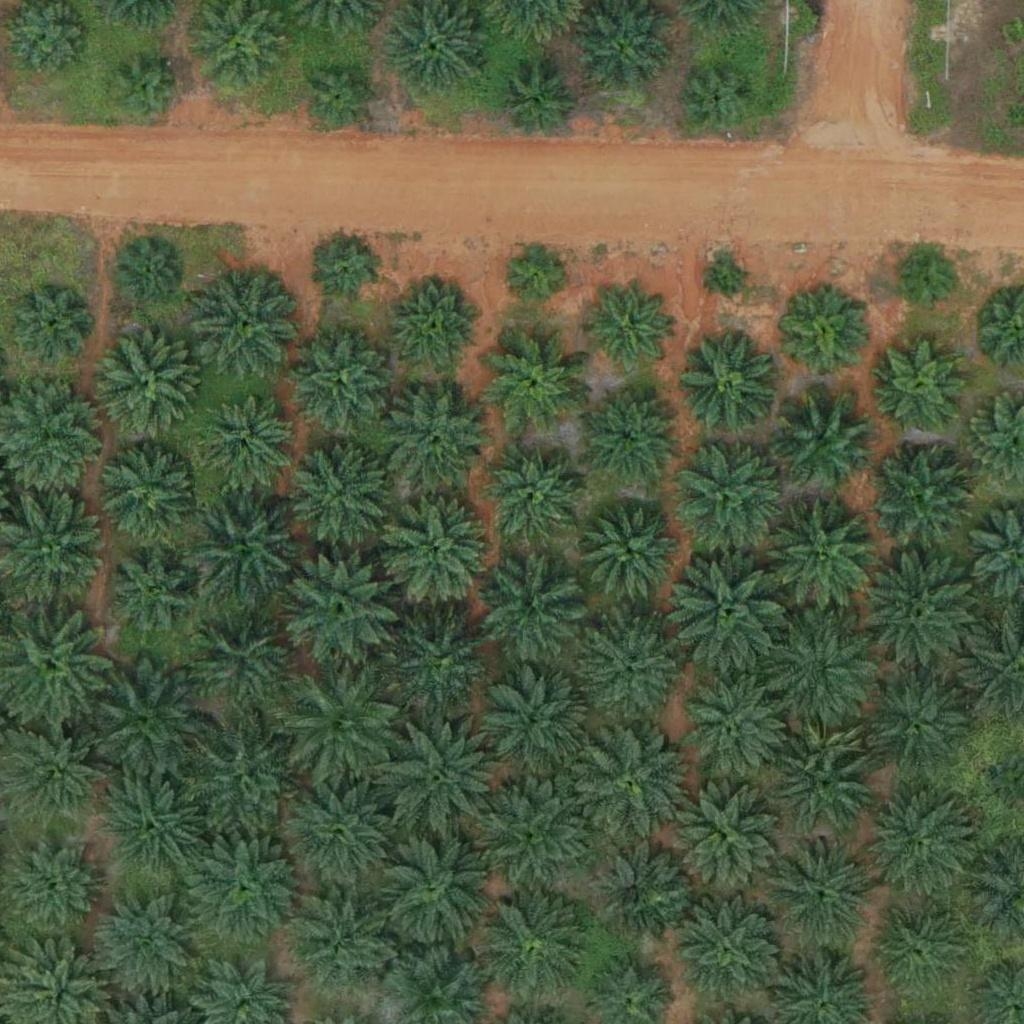Kelapa_Sawit: (84, 659, 209, 785), (180, 479, 305, 605), (179, 598, 304, 724), (179, 714, 304, 840), (280, 548, 405, 674), (278, 666, 403, 792), (375, 714, 500, 840), (663, 552, 788, 678), (756, 609, 881, 735), (852, 551, 977, 677), (371, 828, 496, 954), (278, 768, 403, 894), (181, 825, 306, 951), (376, 491, 501, 616), (566, 722, 691, 847), (473, 771, 598, 896), (473, 884, 598, 1009), (766, 500, 879, 614), (866, 441, 979, 555), (858, 668, 971, 781), (863, 785, 976, 898), (672, 435, 784, 548), (675, 671, 787, 784), (765, 720, 877, 833), (862, 899, 974, 1012), (767, 833, 879, 946), (97, 331, 197, 432), (96, 446, 196, 547), (199, 272, 299, 373), (193, 393, 293, 494), (290, 329, 390, 430), (290, 441, 390, 542), (385, 386, 485, 487), (393, 613, 493, 714), (487, 333, 587, 434), (482, 448, 582, 549), (483, 562, 583, 663), (487, 666, 587, 767), (579, 385, 679, 486), (581, 501, 681, 602), (578, 617, 678, 718), (675, 789, 775, 890), (679, 903, 779, 1004), (587, 840, 687, 941), (296, 892, 396, 993), (103, 542, 203, 642), (679, 330, 779, 430), (774, 388, 874, 488), (102, 773, 202, 873), (93, 894, 193, 994), (584, 285, 672, 373), (877, 340, 965, 428), (396, 282, 483, 370), (783, 294, 870, 382), (682, 60, 757, 136), (108, 52, 183, 128), (16, 287, 91, 362), (500, 66, 575, 141), (304, 60, 379, 135), (117, 241, 180, 304), (317, 239, 379, 302), (503, 240, 565, 303), (898, 252, 960, 315), (710, 260, 747, 298)
